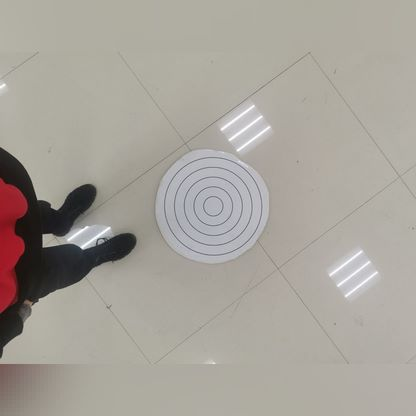circle: (155, 153, 269, 267)
